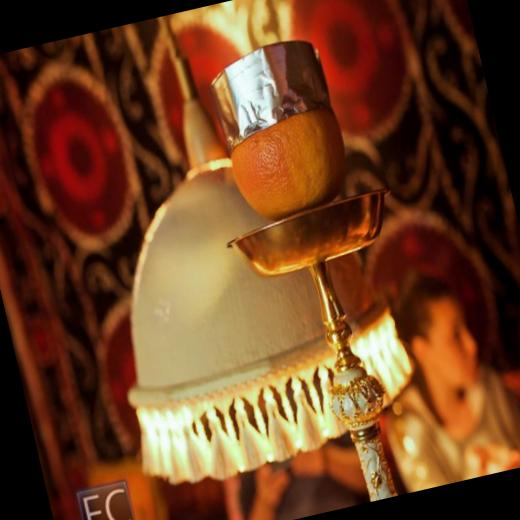Grape: (221, 103, 358, 229)
